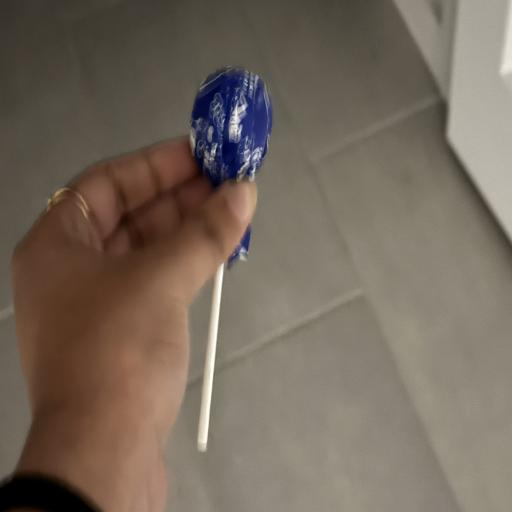chocolate: (174, 58, 288, 210), (189, 67, 273, 187), (197, 263, 226, 452)
